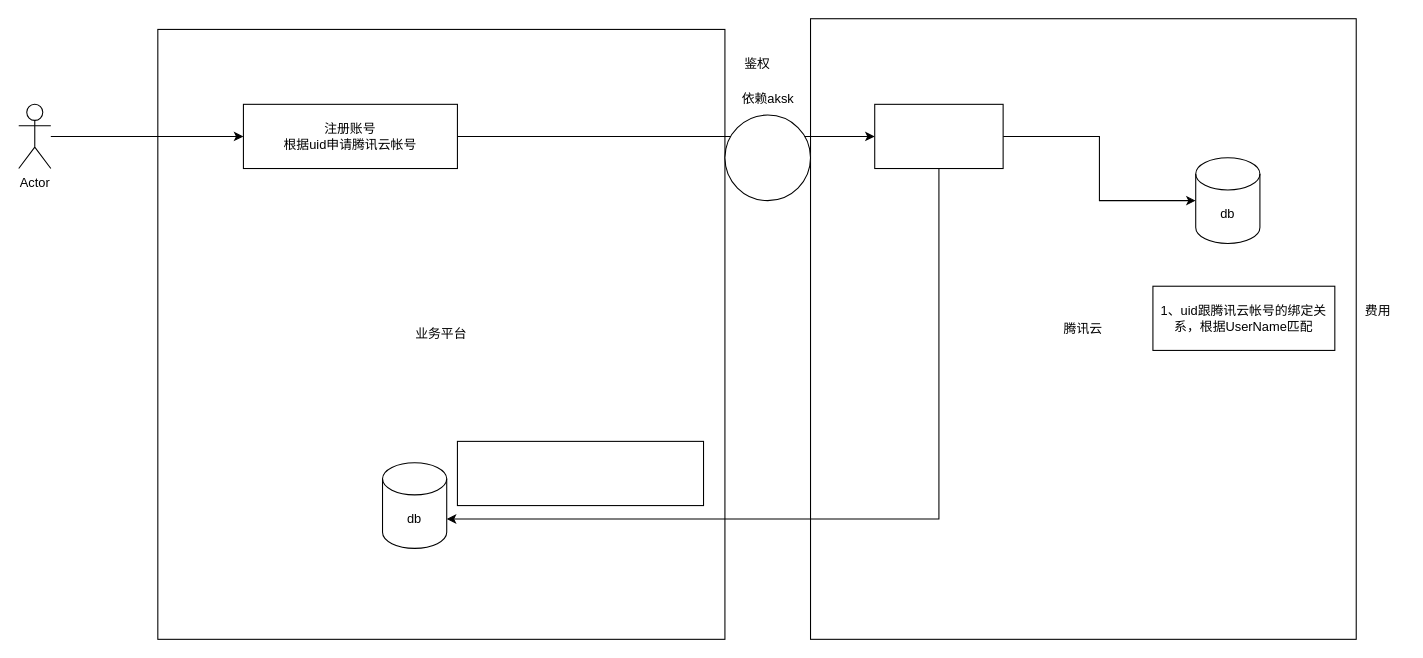
The diagram is 1423 pixels wide and 658 high, and some of its shapes have lost their labels. The shapes that lost their labels are listed below. From the top down, each one's centre as x and y in pixels, then its label:
the point at 938,136: 注册接口
the point at 767,157: 云API
the point at 580,473: 1、用户在该平台的 uid
